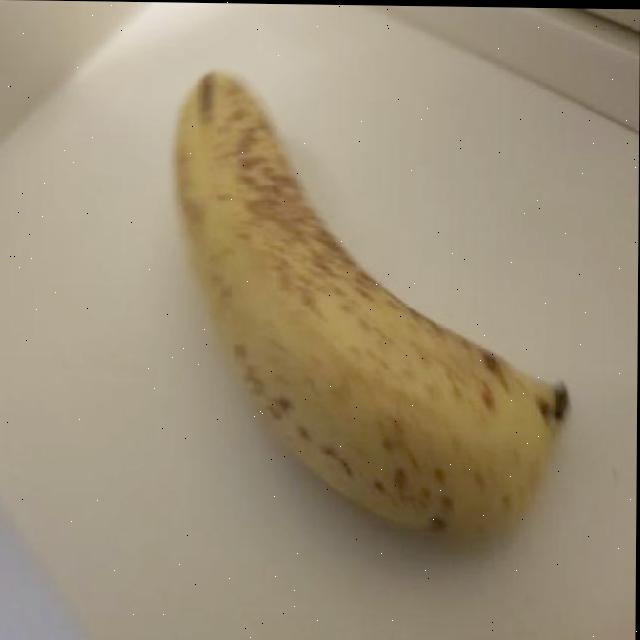banana: (169, 62, 585, 541)
